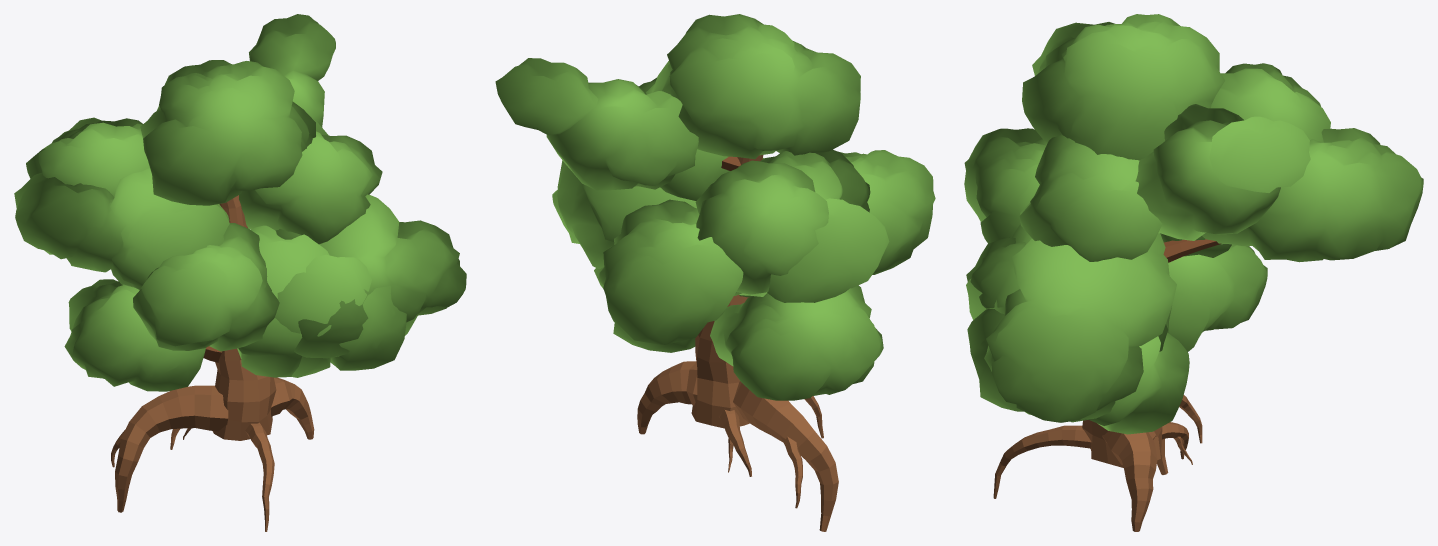
File: tree_c.glb
3 views of the same model, side by side, from view 1: azimuth 30°, elevation 25°; view 2: azimuth 150°, elevation 25°; view 3: azimuth 270°, elevation 25° (orthographic). The views are drawn at different scales.
Visible parts, largest first — view 1: CanopyLeaves, BranchLeaves_5, BranchLeaves_7, BranchLeaves_2, TreeWood, BranchLeaves_10, BranchLeaves_1, BranchLeaves_4, BranchLeaves_8, BranchLeaves_9, BranchLeaves_3, BranchLeaves_6; view 2: CanopyLeaves, BranchLeaves_9, BranchLeaves_6, BranchLeaves_1, TreeWood, BranchLeaves_8, BranchLeaves_5, BranchLeaves_7, BranchLeaves_2, BranchLeaves_10, BranchLeaves_0; view 3: BranchLeaves_2, CanopyLeaves, BranchLeaves_9, BranchLeaves_6, BranchLeaves_10, BranchLeaves_1, TreeWood, BranchLeaves_7, BranchLeaves_8, BranchLeaves_0, BranchLeaves_4, Branch.006.
Boxes of the visible parts, x1,y1,x2,y2 form: CanopyLeaves: (140, 60, 315, 205); BranchLeaves_5: (14, 168, 229, 289); BranchLeaves_7: (133, 223, 279, 351); BranchLeaves_2: (275, 194, 466, 358); TreeWood: (111, 195, 314, 531); BranchLeaves_10: (239, 131, 382, 244); BranchLeaves_1: (64, 279, 205, 391); BranchLeaves_4: (275, 254, 406, 377); BranchLeaves_8: (26, 122, 149, 196); BranchLeaves_9: (249, 14, 335, 135); BranchLeaves_3: (237, 225, 329, 377); BranchLeaves_6: (43, 117, 142, 148); CanopyLeaves: (651, 14, 860, 159); BranchLeaves_9: (495, 58, 698, 190); BranchLeaves_6: (603, 199, 743, 344); BranchLeaves_1: (710, 285, 883, 400); TreeWood: (637, 155, 838, 531); BranchLeaves_8: (695, 160, 828, 294); BranchLeaves_5: (739, 149, 889, 302); BranchLeaves_7: (839, 150, 935, 274); BranchLeaves_2: (552, 160, 696, 269); BranchLeaves_10: (639, 77, 729, 200); BranchLeaves_0: (594, 267, 695, 352); BranchLeaves_2: (966, 233, 1176, 422); CanopyLeaves: (1022, 14, 1224, 160); BranchLeaves_9: (1135, 104, 1310, 240); BranchLeaves_6: (1202, 128, 1423, 262); BranchLeaves_10: (1019, 134, 1162, 261); BranchLeaves_1: (1168, 244, 1267, 351); TreeWood: (993, 395, 1202, 531); BranchLeaves_7: (964, 128, 1046, 243); BranchLeaves_8: (1211, 63, 1330, 142); BranchLeaves_0: (1070, 333, 1189, 434); BranchLeaves_4: (966, 237, 1025, 411); Branch.006: (1163, 239, 1221, 262).
Size of the model in its own units: 9.97 by 11.21 by 9.3.
